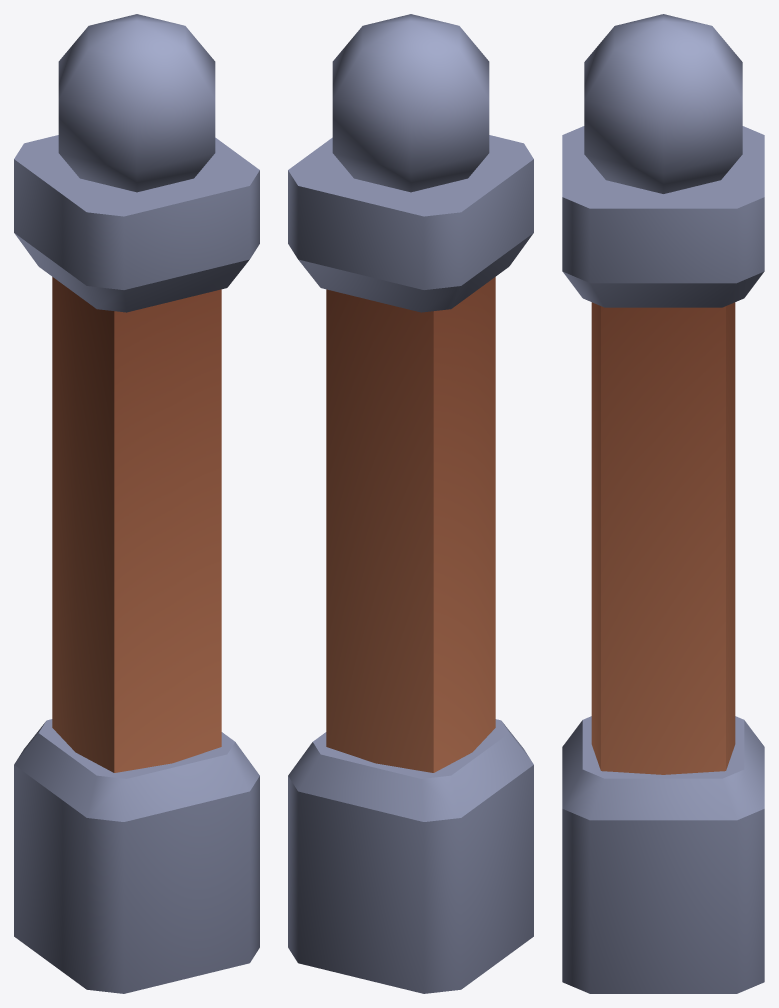
File: pillar-large.glb
3 views of the same model, side by side, from view 1: azimuth 30°, elevation 25°; view 2: azimuth 150°, elevation 25°; view 3: azimuth 270°, elevation 25° (orthographic).
Parts seen in each view (by area): view 1: pillar-large; view 2: pillar-large; view 3: pillar-large.
Part boxes in pixels (left/top/right/bottom): pillar-large: left=14, top=14, right=259, bottom=993; pillar-large: left=288, top=14, right=533, bottom=993; pillar-large: left=562, top=14, right=764, bottom=993.
Size of the model in its own units: 0.2215 by 1.13 by 0.2215.
